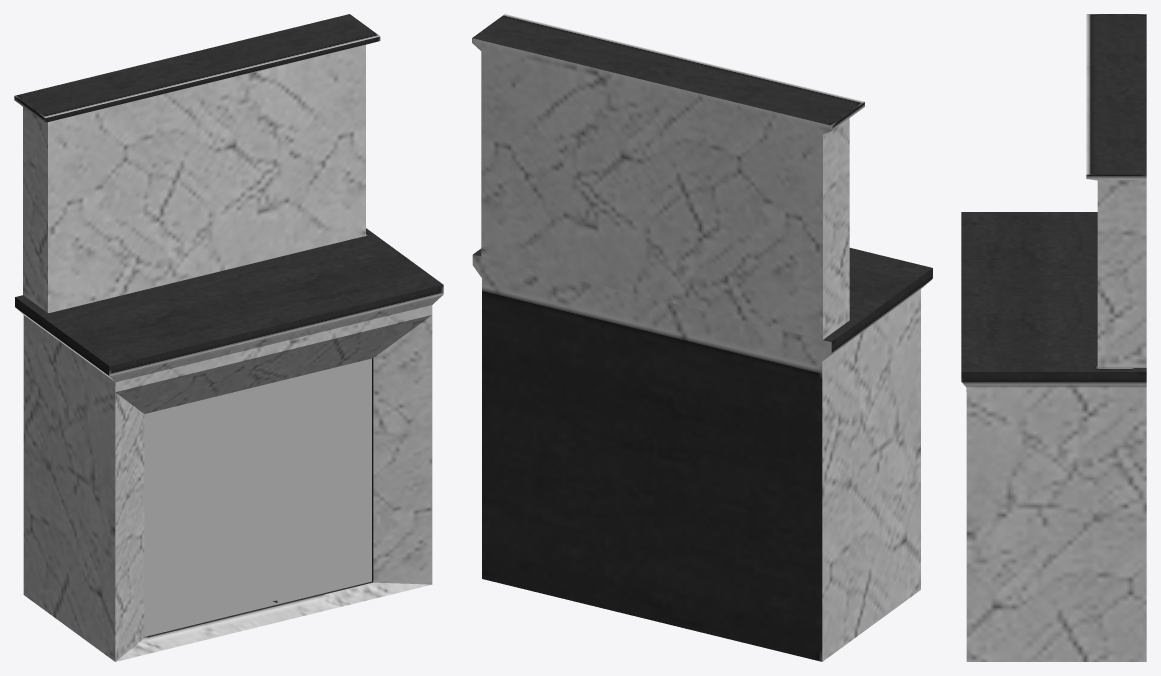
The model's file is MKU_freplace_fin.fbx.
The picture shows the model from 3 angles, left to right: view 1: azimuth 30°, elevation 25°; view 2: azimuth 150°, elevation 25°; view 3: azimuth 270°, elevation 25°; orthographic projection. The views are drawn at different scales.
Parts seen in each view (by area): view 1: fireplace, guard; view 2: fireplace; view 3: fireplace.
Part boxes in pixels (x1=…): fireplace: x1=14, y1=14, x2=443, y2=661; guard: x1=144, y1=358, x2=371, y2=636; fireplace: x1=472, y1=14, x2=932, y2=661; fireplace: x1=961, y1=14, x2=1146, y2=661.
Size of the model in its own units: 607 by 877 by 296.
